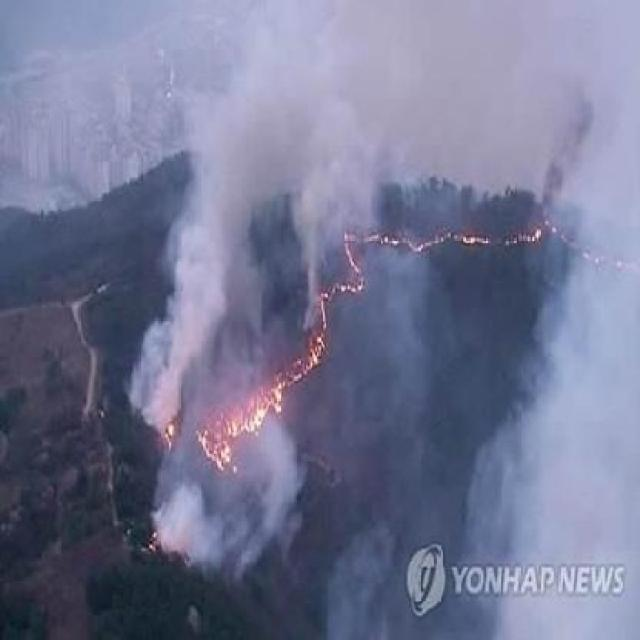Fire: (212, 294, 328, 472), (365, 216, 640, 260), (324, 220, 371, 305), (153, 410, 179, 443)
Smoke: (381, 273, 639, 640), (183, 10, 640, 215), (136, 216, 232, 405), (154, 464, 310, 572), (335, 325, 385, 640), (237, 218, 325, 293)
